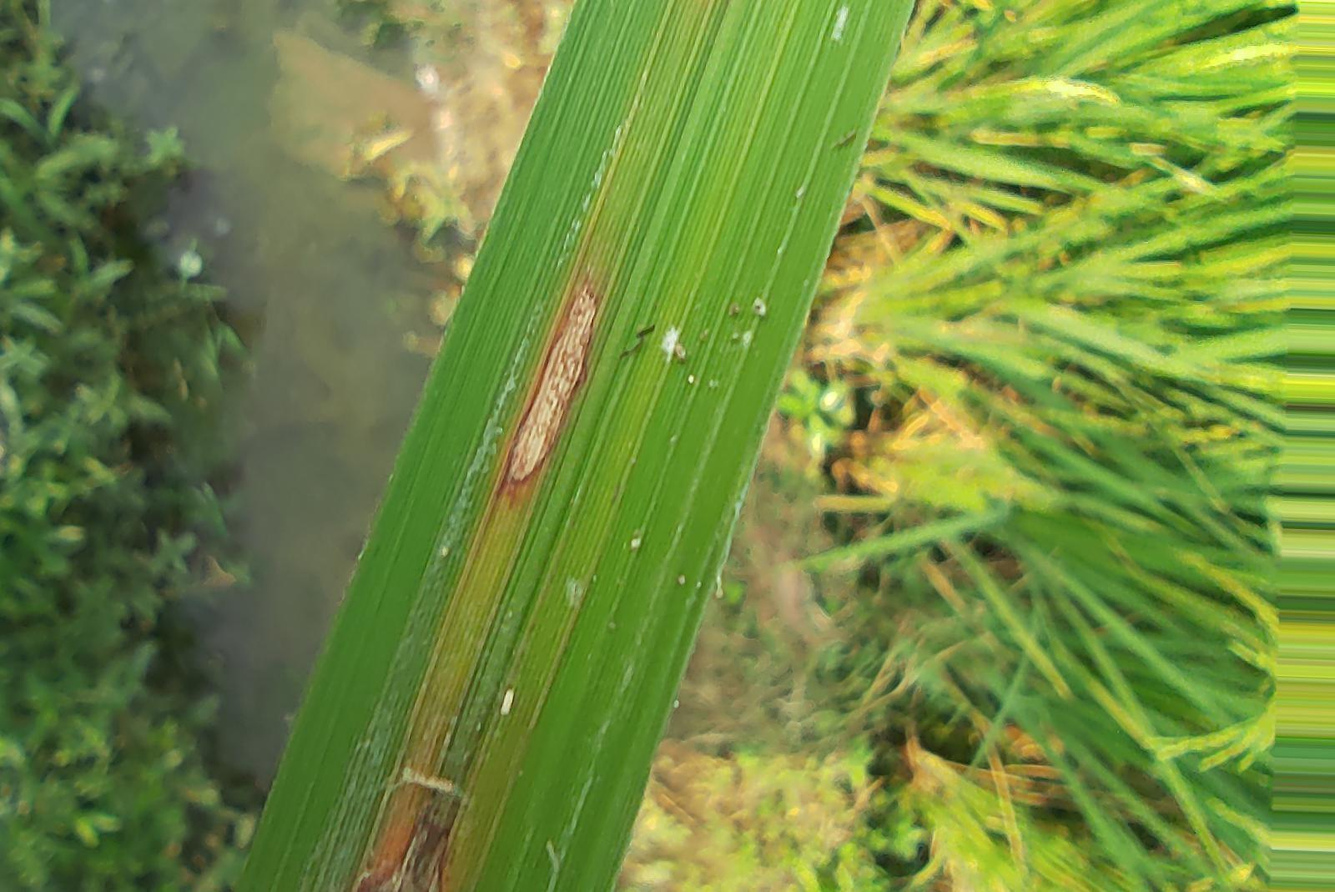LEAF: (238, 0, 911, 891)
LEAF BLAST: (507, 286, 597, 481), (355, 814, 448, 891)
